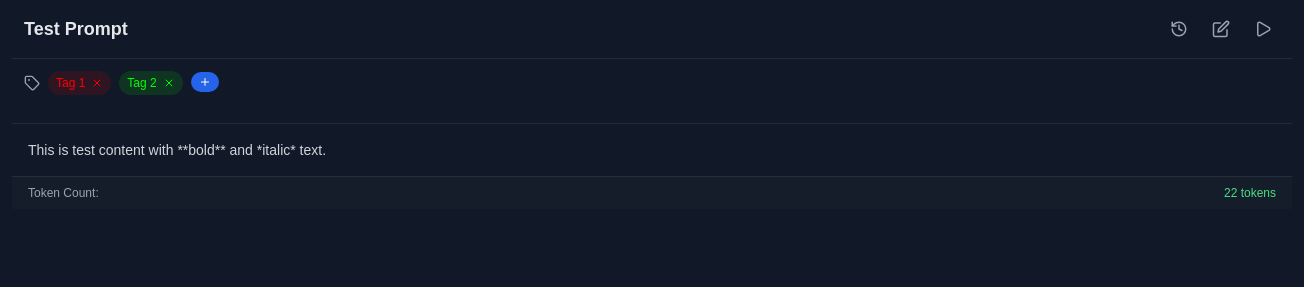
Scenario: PromptEditor › Edit Mode › should enter edit mode when edit button is clicked
The image size is (1304, 287).
Click edit button to enter edit mode
Click the button titled "Edit prompt" at [1221, 29], box [1204,12,1238,46]
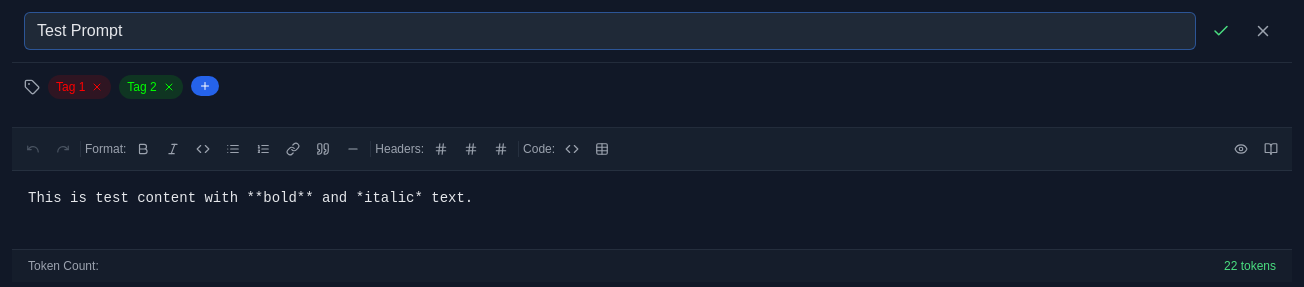
Result: the field showing "Test Prompt" is shown at [24,12,1196,50]
Result: the text box showing "This is test content with **bold** and *italic* text." is shown at [12,171,1292,248]
